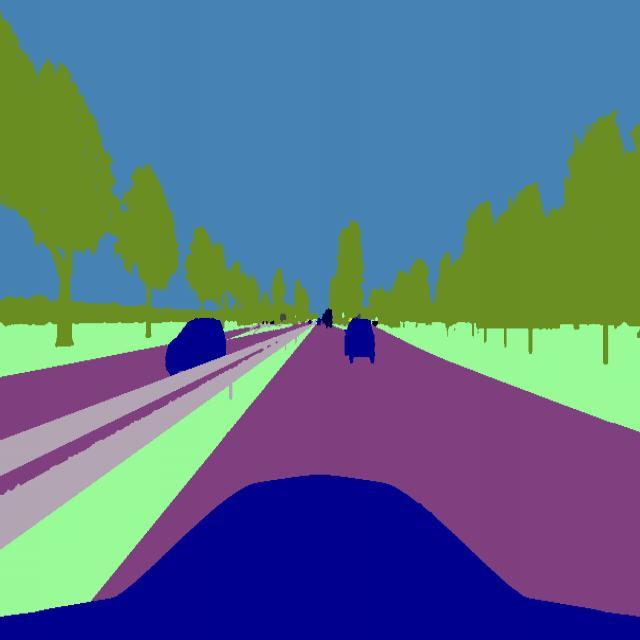safe: (162, 314, 228, 378), (342, 312, 377, 369)
